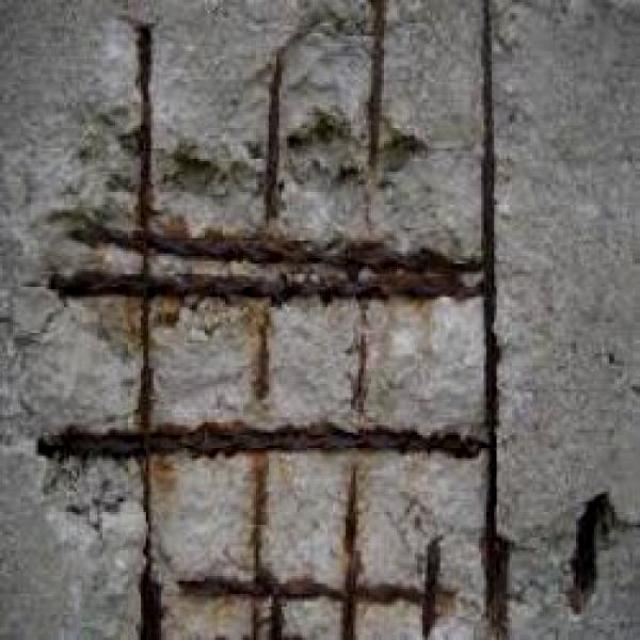Crack: (36, 1, 501, 638)
